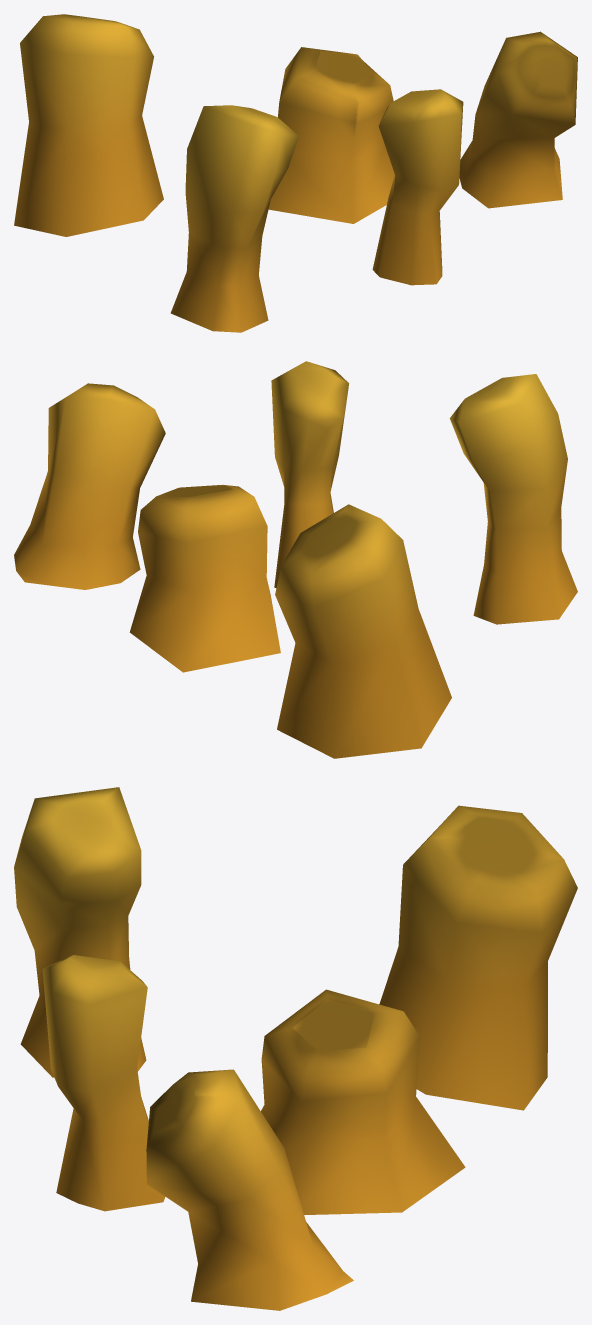
Rendered from S_Coral_02.fbx.
The picture shows the model from 3 angles, top to bottom: view 1: azimuth 30°, elevation 25°; view 2: azimuth 150°, elevation 25°; view 3: azimuth 270°, elevation 25°; orthographic projection. The views are drawn at different scales.
Parts seen in each view (by area): view 1: Map_Blocking:Corail_14; view 2: Map_Blocking:Corail_14; view 3: Map_Blocking:Corail_14.
Boxes of the visible parts, x1=… form: Map_Blocking:Corail_14: x1=14, y1=14, x2=577, y2=332; Map_Blocking:Corail_14: x1=14, y1=361, x2=577, y2=758; Map_Blocking:Corail_14: x1=14, y1=787, x2=577, y2=1310.
Size of the model in its own units: 231 by 103 by 187.
